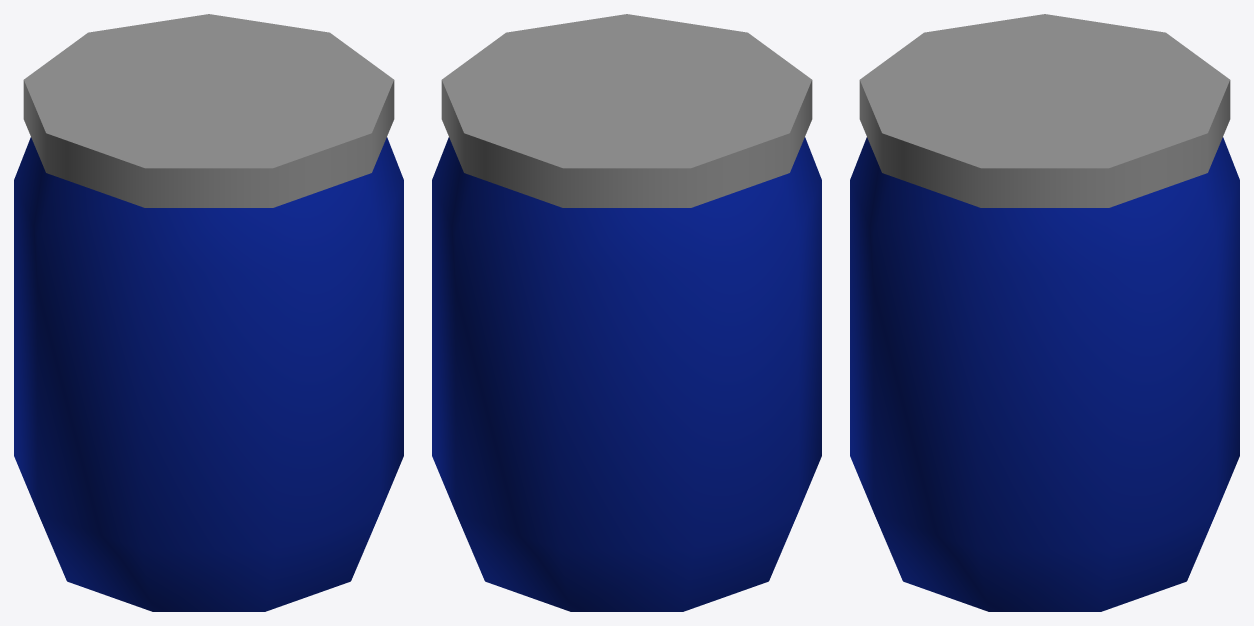
The model's file is Jar.FBX.
3 renders of one model, left to right at view 1: azimuth 30°, elevation 25°; view 2: azimuth 150°, elevation 25°; view 3: azimuth 270°, elevation 25°, orthographic.
Visible parts, largest first — view 1: Cylinder001; view 2: Cylinder001; view 3: Cylinder001.
Boxes of the visible parts, left/top/right/bottom form: Cylinder001: left=14, top=14, right=403, bottom=611; Cylinder001: left=432, top=14, right=821, bottom=611; Cylinder001: left=850, top=14, right=1239, bottom=611.
Bounding box in the file's own units: 16.26 × 21.2 × 16.51.
